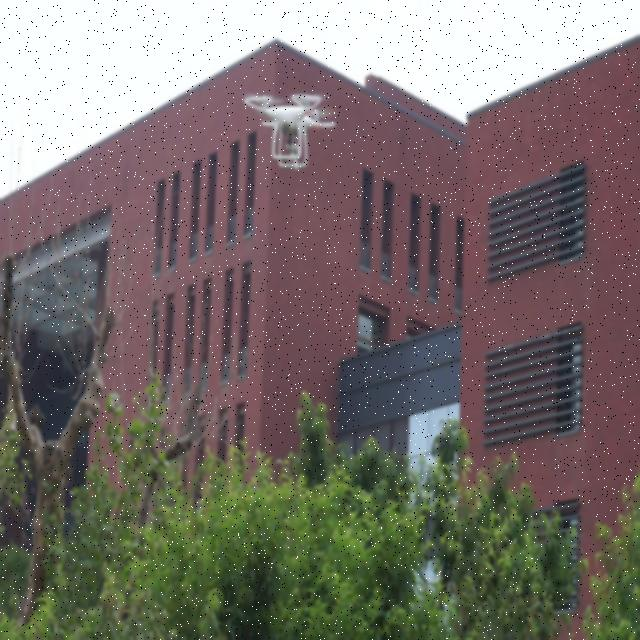UAV: (243, 94, 336, 170)
